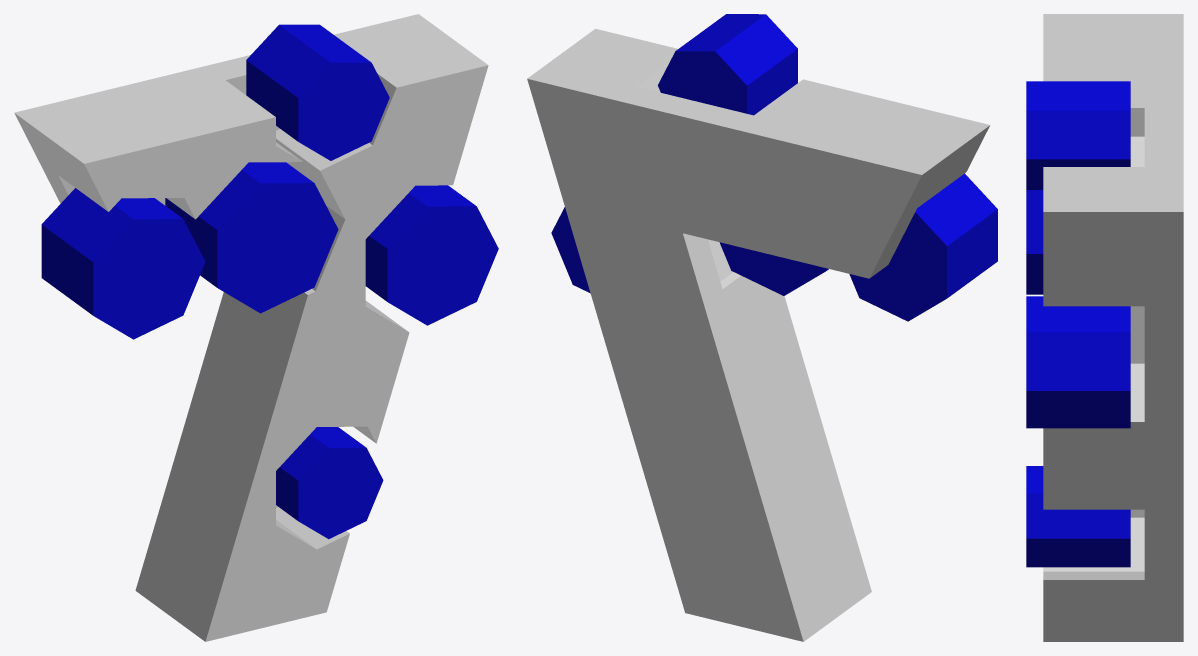
Rendered from Ch_Lite_7_01.fbx.
3 views of the same model, side by side, from view 1: azimuth 30°, elevation 25°; view 2: azimuth 150°, elevation 25°; view 3: azimuth 270°, elevation 25° (orthographic). The views are drawn at different scales.
Parts seen in each view (by area): view 1: sphere1; view 2: sphere1; view 3: sphere1.
Boxes of the visible parts, <box> form: sphere1: <box>14,14,498,641</box>; sphere1: <box>527,14,997,641</box>; sphere1: <box>1026,14,1183,641</box>.
Size of the model in its own units: 0.6698 by 0.8775 by 0.2242.
